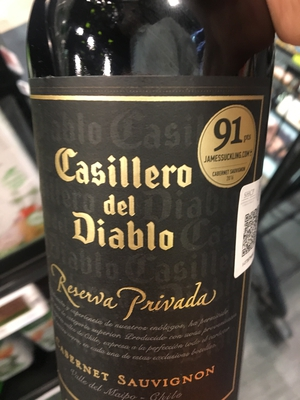casillero del diablo reserva privada cabernet sauvignon: (22, 9, 279, 400)
